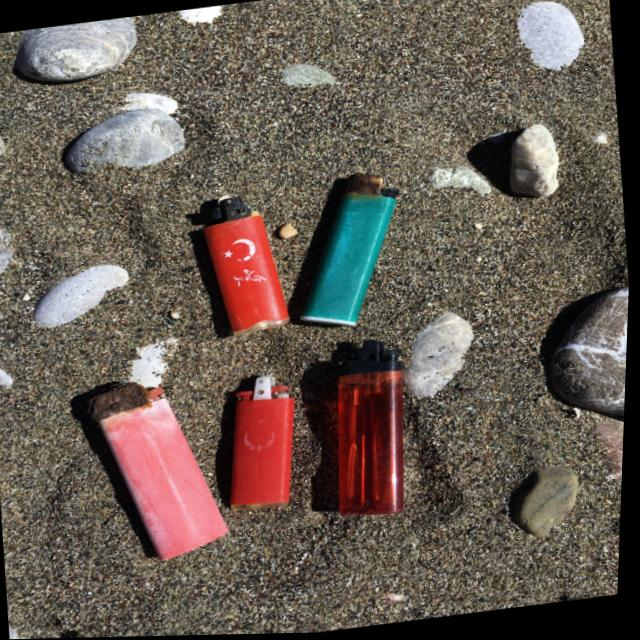Can-Metal: (65, 347, 246, 577), (280, 157, 420, 336), (175, 175, 300, 350), (202, 362, 318, 524)
Plastic: (301, 326, 437, 538)
